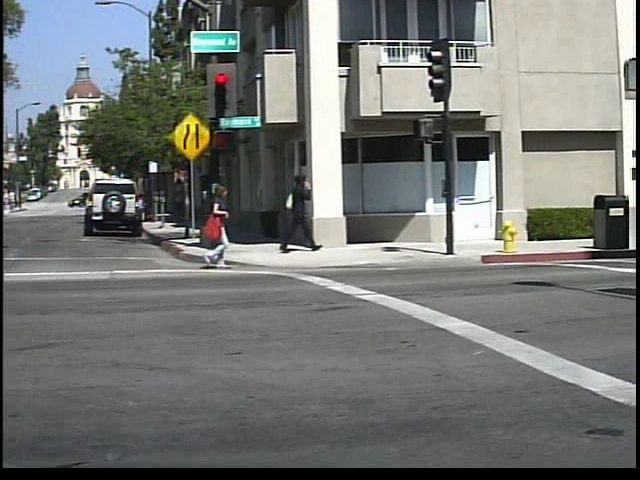person: (200, 178, 251, 269), (287, 168, 330, 254)
